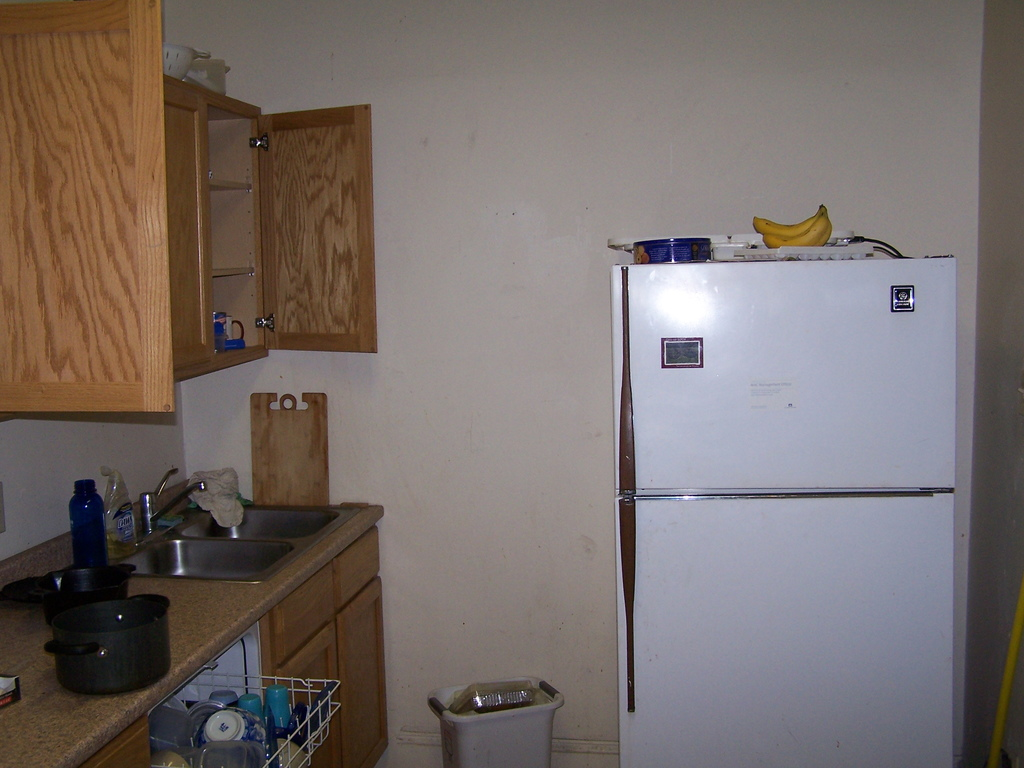cabinet door: (14, 39, 173, 406), (262, 117, 371, 350), (342, 595, 377, 768), (268, 587, 332, 644), (327, 544, 381, 593)
handle: (611, 499, 648, 714), (615, 274, 642, 490)
refrigerator door: (617, 498, 950, 764), (614, 274, 950, 494)
